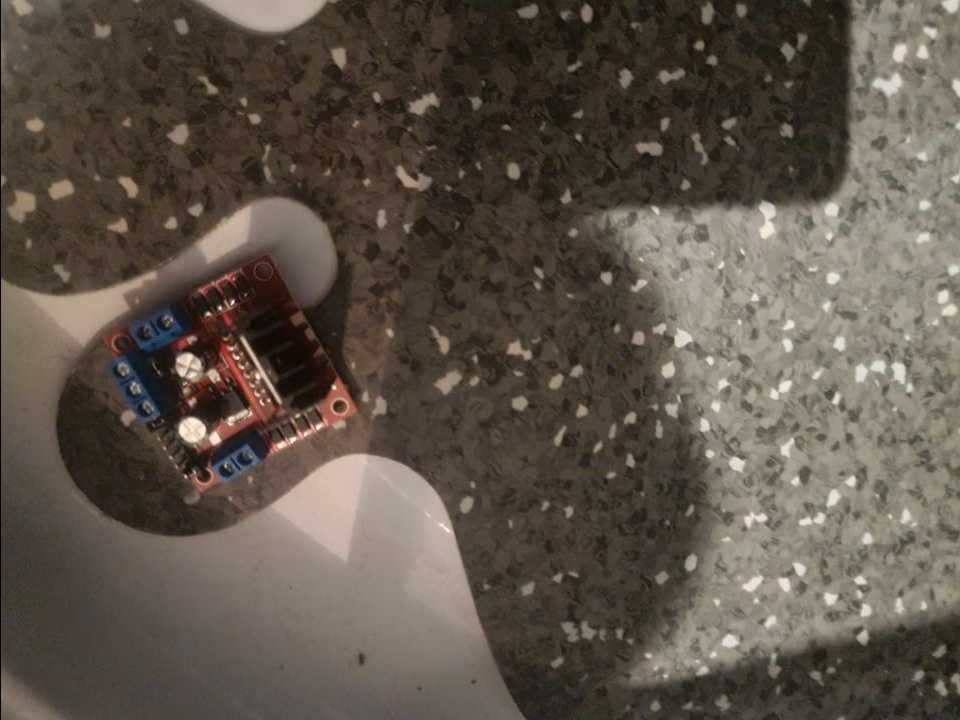MOTOR: (96, 252, 358, 491)
